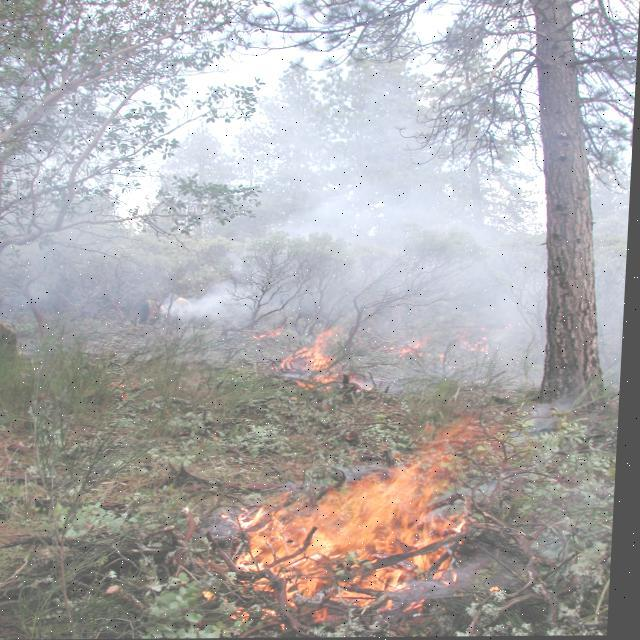Fire: (254, 458, 484, 610), (284, 324, 347, 392)
